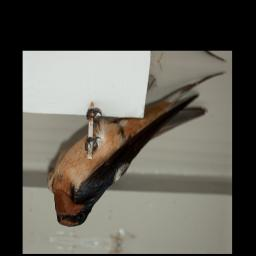Swallow: (49, 61, 227, 240)
